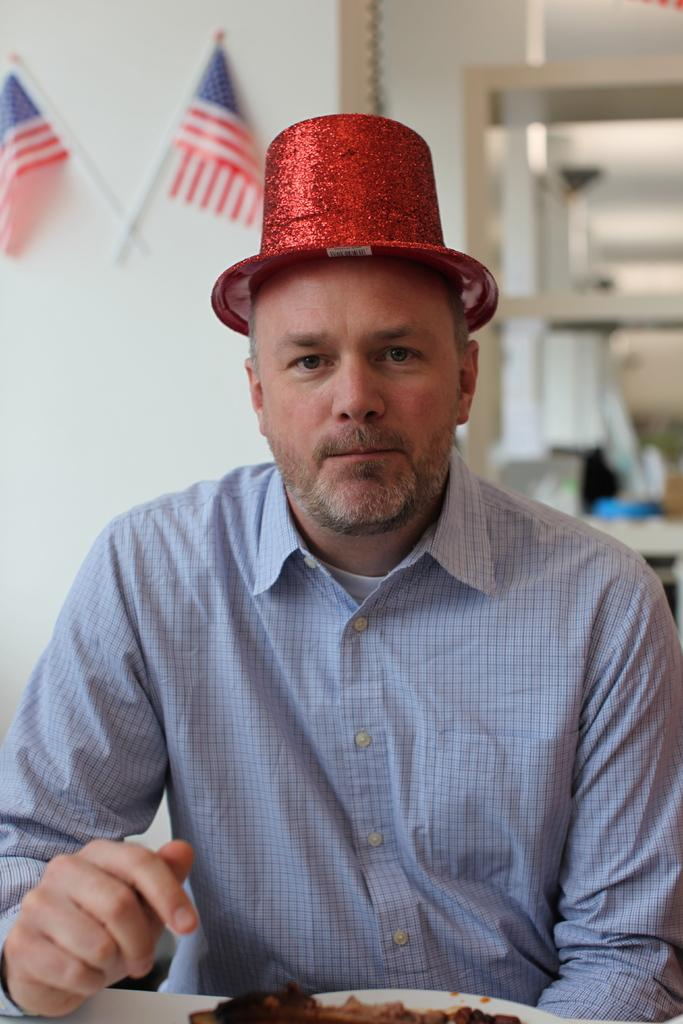Hat: (207, 112, 496, 339)
